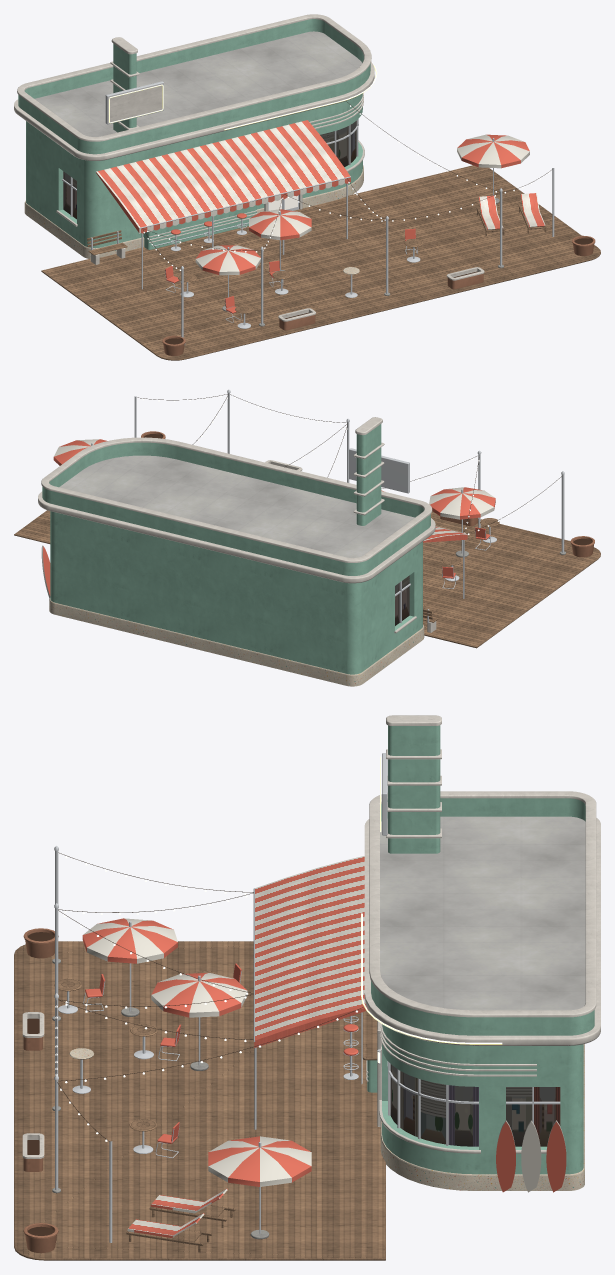
Rendered from plot_beach_cafe.gltf.
3 renders of one model, top to bottom at view 1: azimuth 30°, elevation 25°; view 2: azimuth 150°, elevation 25°; view 3: azimuth 270°, elevation 25°, orthographic. The views are drawn at different scales.
Parts seen in each view (by area): view 1: plot_beach_cafe_mesh, sign_face; view 2: plot_beach_cafe_mesh; view 3: plot_beach_cafe_mesh.
Part boxes in pixels (x1,y1,x2,y2): plot_beach_cafe_mesh: (14,14,600,360); sign_face: (108,83,163,123); plot_beach_cafe_mesh: (14,389,600,686); plot_beach_cafe_mesh: (14,715,600,1260).
Size of the model in its own units: 19.4 by 8.31 by 15.15.
13 materials, 9 textured.
